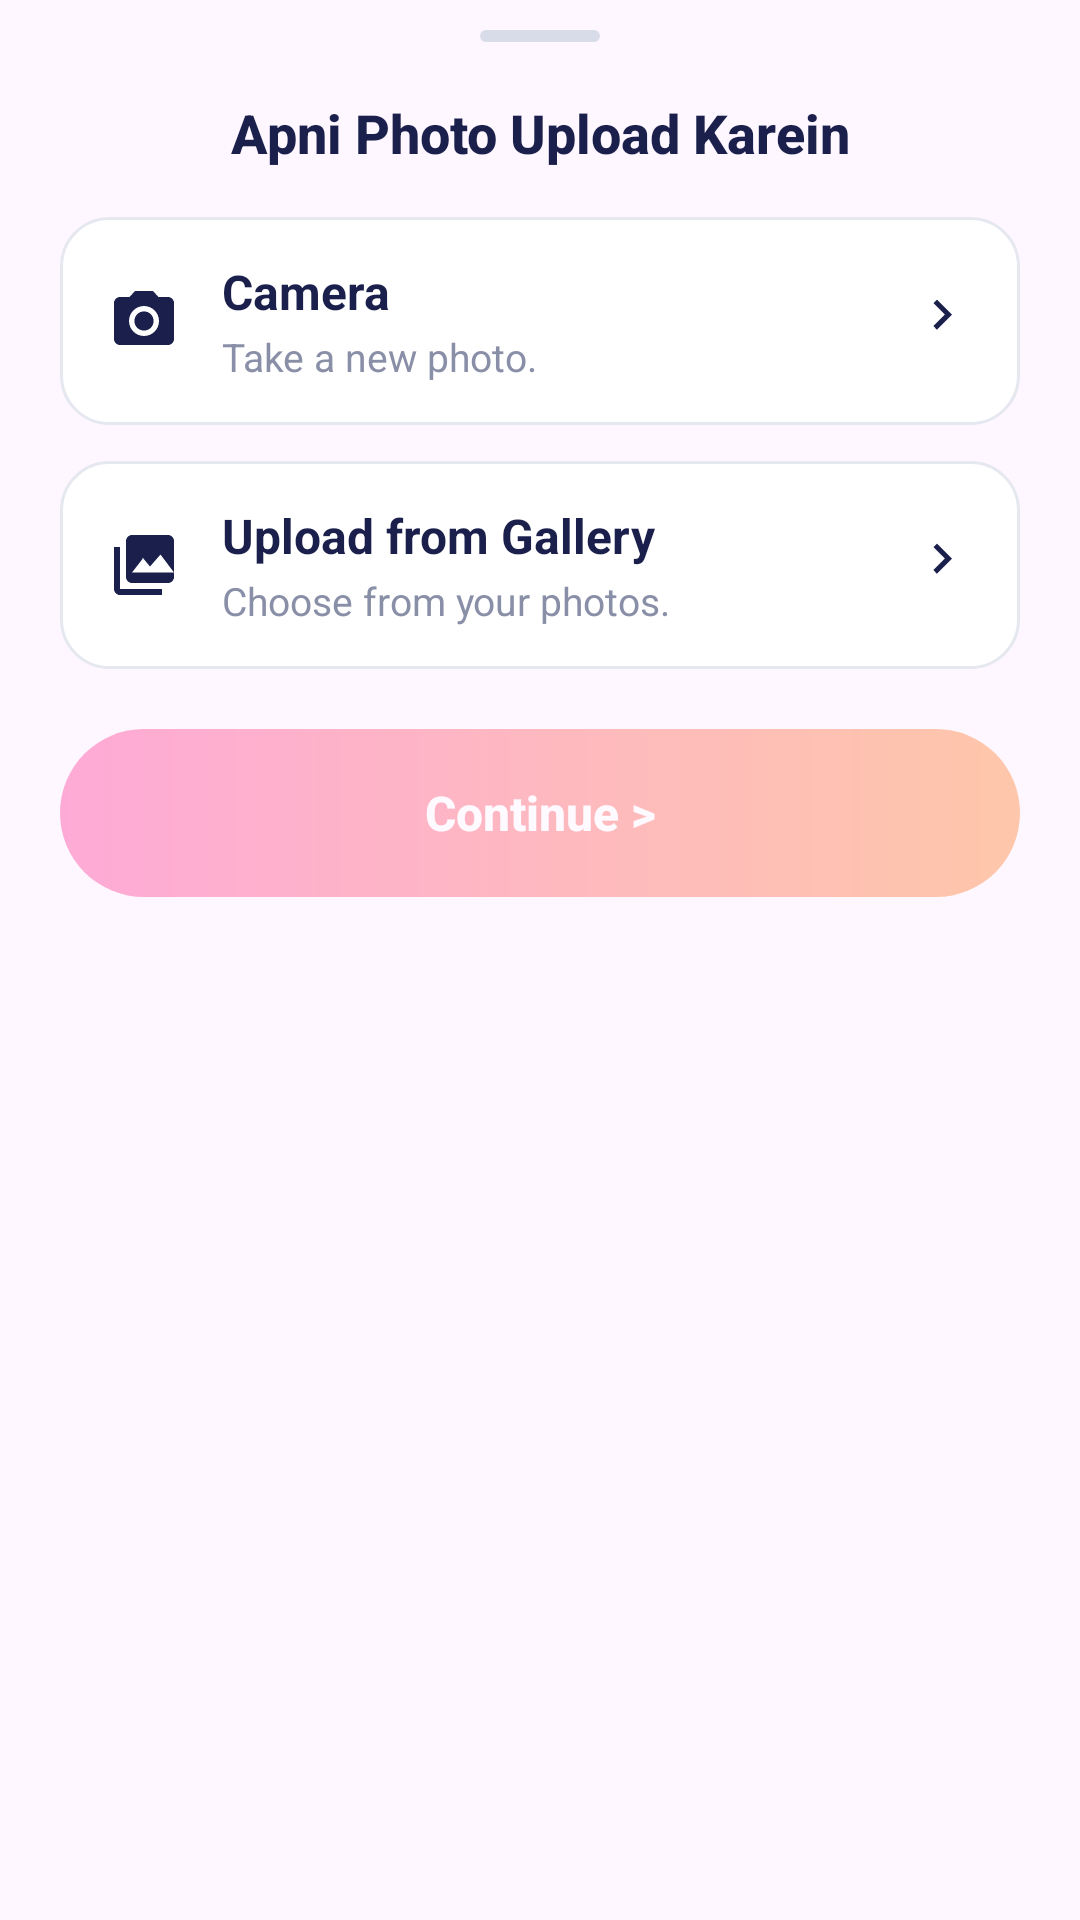

Icons on this 1080 x 1920 Android screen, each with the point to tap as point (x, y):
chevron right: point (942, 315), point (942, 559)
